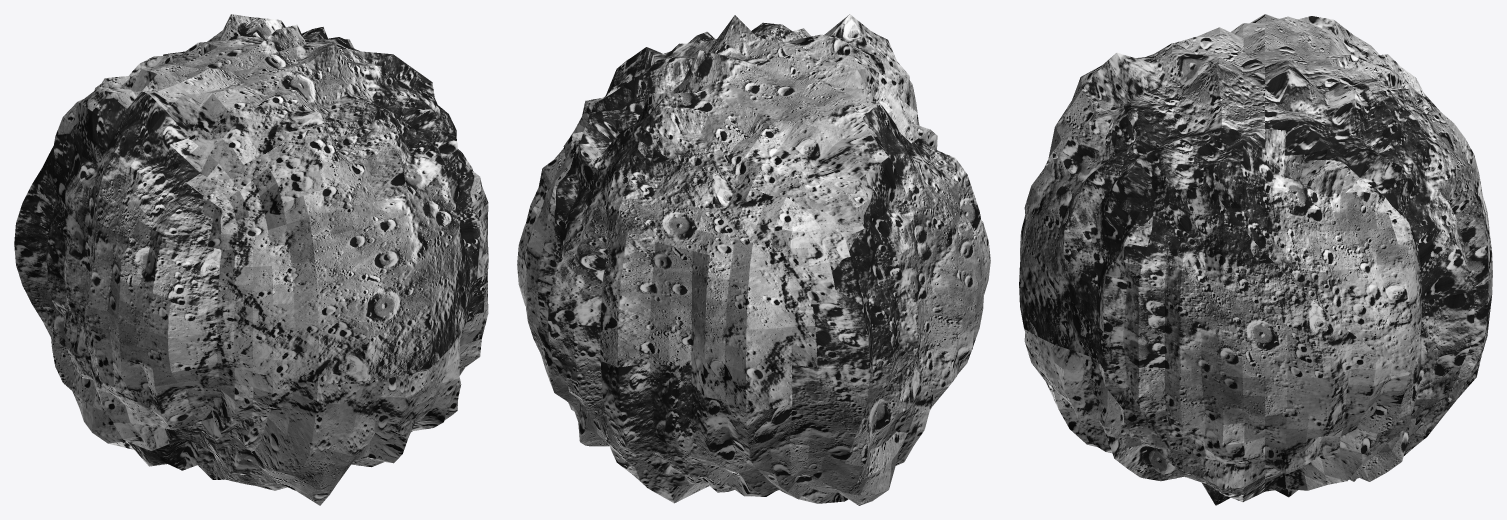
Rendered from asteroid153.obj.
3 views of the same model, side by side, from view 1: azimuth 30°, elevation 25°; view 2: azimuth 150°, elevation 25°; view 3: azimuth 270°, elevation 25° (orthographic). The views are drawn at different scales.
Visible parts, largest first — view 1: Cube_Cube.002; view 2: Cube_Cube.002; view 3: Cube_Cube.002.
Part boxes in pixels (x1=…): Cube_Cube.002: x1=14, y1=14, x2=488, y2=505; Cube_Cube.002: x1=517, y1=14, x2=990, y2=505; Cube_Cube.002: x1=1019, y1=14, x2=1492, y2=505.
Size of the model in its own units: 1.76 by 1.9 by 1.85.
